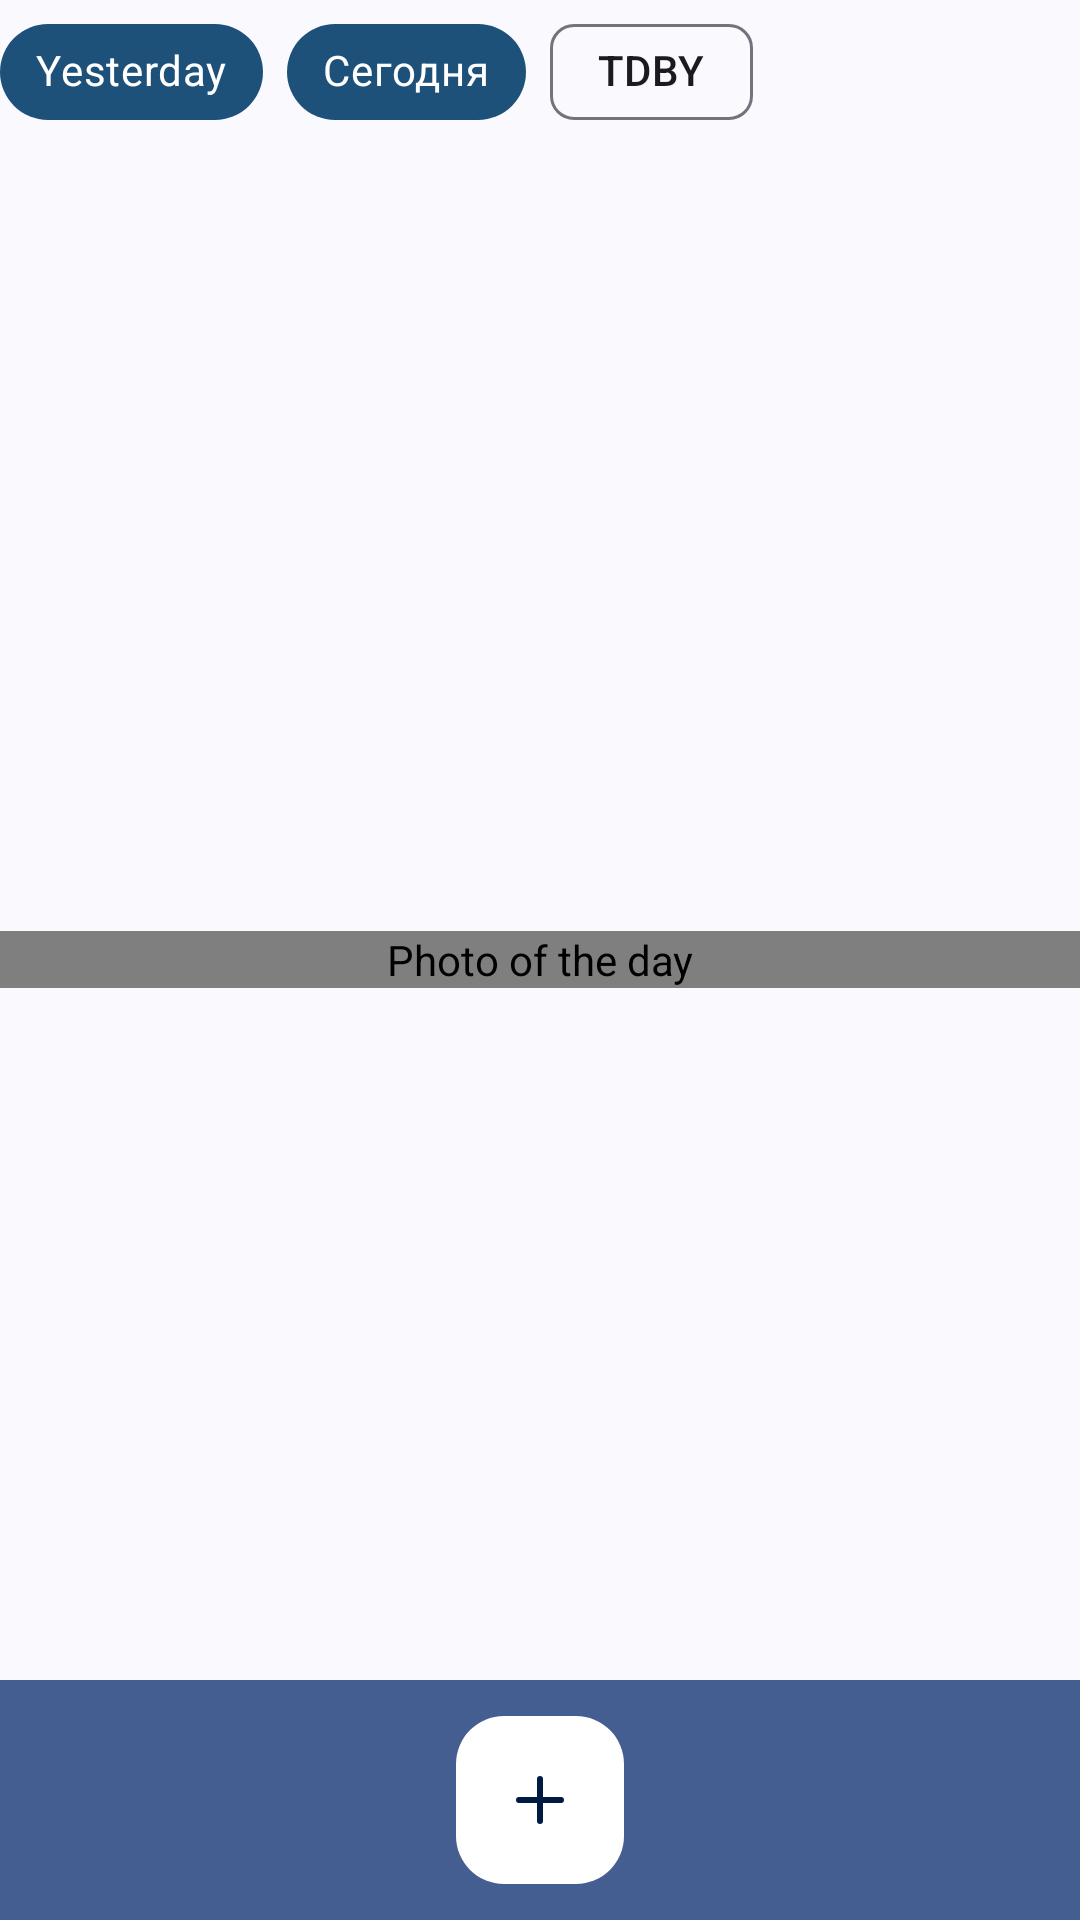

Icon bounding boxes for this 1080×1920 phone screenshot, format (x1,y1,x2,y2):
plus fab: (456,1752,624,1884)
